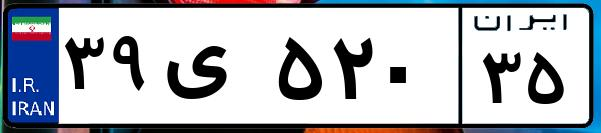0: (385, 28, 445, 110)
2: (330, 28, 385, 110)
3: (57, 26, 110, 100), (475, 38, 525, 113)
5: (270, 28, 330, 110), (525, 38, 570, 115)
9: (110, 28, 158, 98)
ی: (158, 20, 270, 120)
